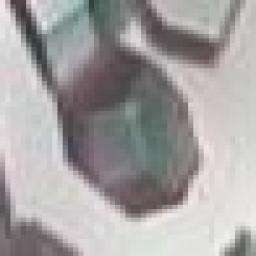crystals: (57, 43, 208, 232)
